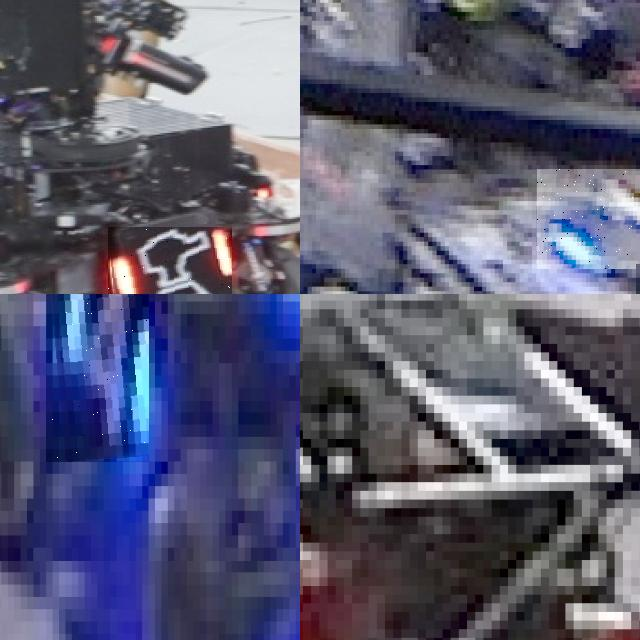B1: (536, 169, 640, 268)
B4: (46, 294, 148, 461)
Rs: (107, 227, 232, 294)
